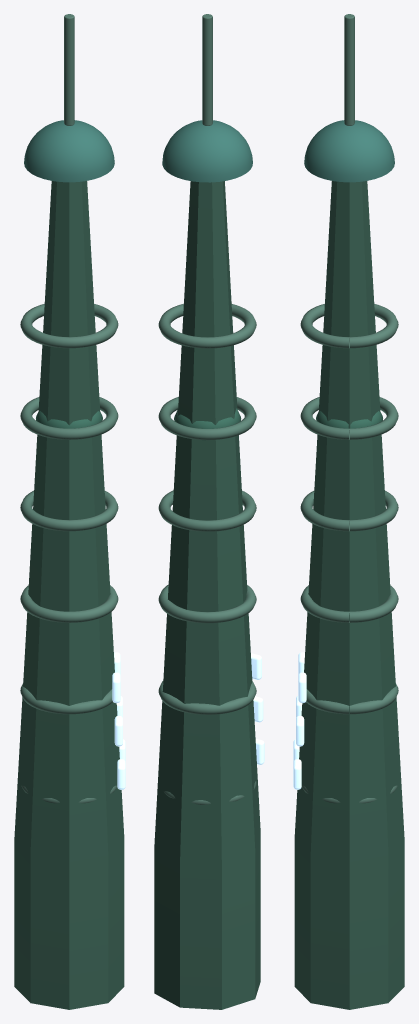
The picture shows the model from 3 angles, left to right: view 1: azimuth 90°, elevation 25°; view 2: azimuth 150°, elevation 25°; view 3: azimuth 270°, elevation 25°; orthographic projection.
Visible parts, largest first — view 1: Tapered spire, Sensor pickup cap, Sensor mast collar.007, Sensor mast collar.006, Sensor mast collar.005, Sensor mast collar.004, Aerial stem, Sensor mast collar.003, Spire collar; view 2: Tapered spire, Sensor pickup cap, Sensor mast collar.007, Sensor mast collar.006, Sensor mast collar.005, Sensor mast collar.004, Aerial stem, Sensor mast collar.003, Spire collar; view 3: Tapered spire, Sensor pickup cap, Sensor mast collar.007, Sensor mast collar.006, Sensor mast collar.005, Sensor mast collar.004, Aerial stem, Sensor mast collar.003, Spire collar.
Part boxes in pixels (x1,y1,x2,y2): Tapered spire: [14, 181, 124, 1009]; Sensor pickup cap: [24, 120, 114, 182]; Sensor mast collar.007: [20, 304, 118, 348]; Sensor mast collar.006: [20, 397, 118, 439]; Sensor mast collar.005: [20, 490, 118, 531]; Sensor mast collar.004: [20, 585, 118, 622]; Aerial stem: [64, 14, 74, 125]; Sensor mast collar.003: [20, 683, 112, 714]; Spire collar: [36, 411, 102, 428]; Tapered spire: [154, 181, 260, 1009]; Sensor pickup cap: [162, 120, 252, 182]; Sensor mast collar.007: [158, 303, 256, 348]; Sensor mast collar.006: [158, 396, 256, 440]; Sensor mast collar.005: [158, 490, 256, 531]; Sensor mast collar.004: [158, 584, 256, 623]; Aerial stem: [202, 14, 212, 125]; Sensor mast collar.003: [158, 681, 256, 714]; Spire collar: [174, 408, 241, 440]; Tapered spire: [294, 181, 404, 1009]; Sensor pickup cap: [304, 120, 394, 182]; Sensor mast collar.007: [300, 304, 398, 348]; Sensor mast collar.006: [300, 397, 398, 439]; Sensor mast collar.005: [300, 490, 398, 531]; Sensor mast collar.004: [300, 585, 398, 622]; Aerial stem: [344, 14, 354, 125]; Sensor mast collar.003: [306, 683, 398, 714]; Spire collar: [316, 411, 382, 428].
Bounding box in the file's own units: 0.46 × 4.48 × 0.4649.
